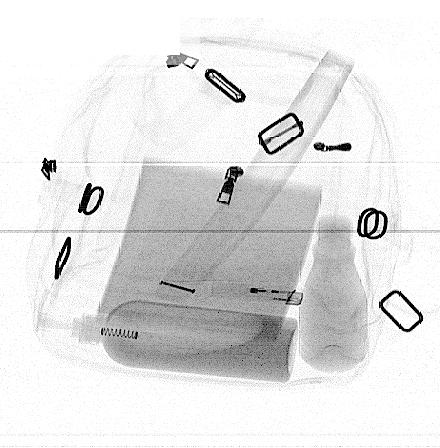Lighter: (212, 283, 304, 307)
